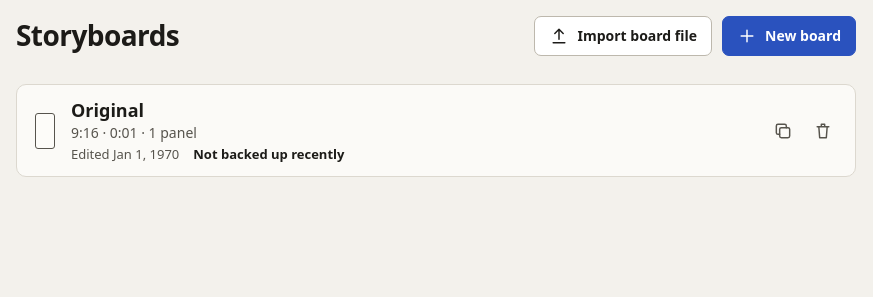
Scenario: duplicate adds a copy
Click the button named "Duplicate Original".
click(783, 131)  # box [763,111,803,151]
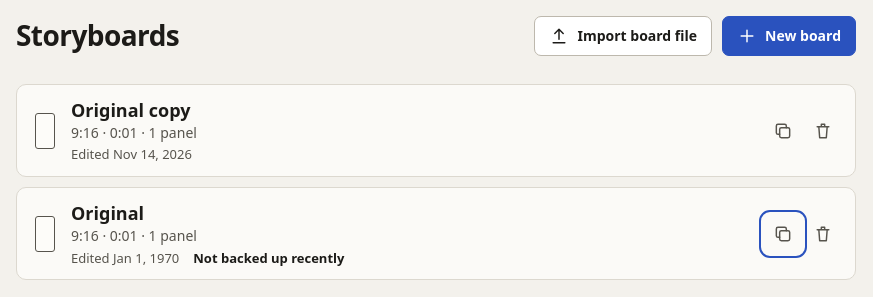
Result: the link "Original copy" is shown at [71,98,190,122]
